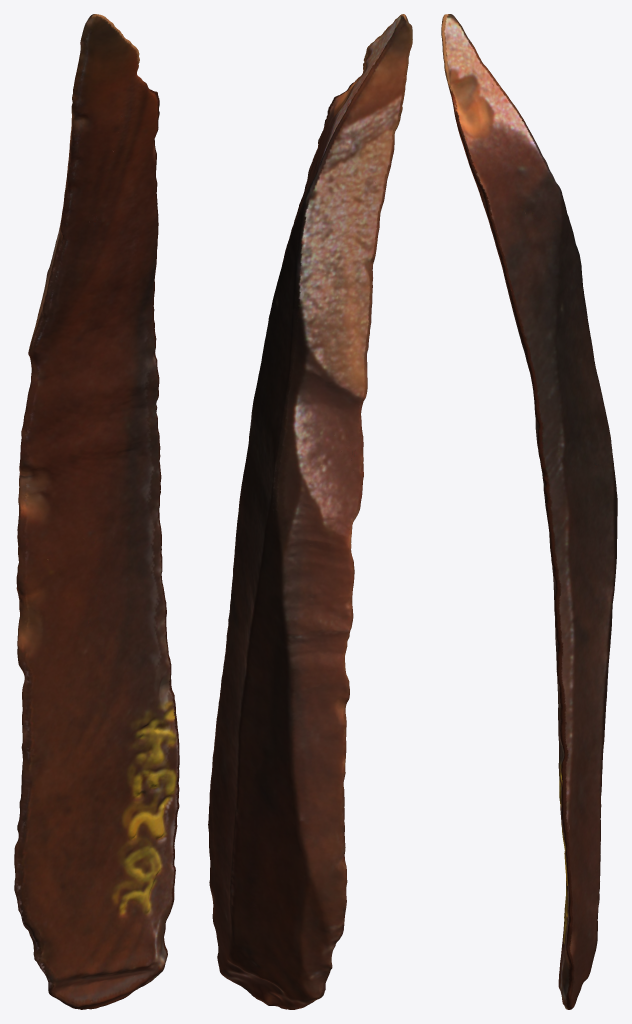
3 views of the same model, side by side, from view 1: azimuth 30°, elevation 25°; view 2: azimuth 150°, elevation 25°; view 3: azimuth 270°, elevation 25° (orthographic). The views are drawn at different scales.
Parts seen in each view (by area): view 1: Node; view 2: Node; view 3: Node.
Boxes of the visible parts, <box> form: Node: <box>14,14,179,1009</box>; Node: <box>208,14,412,1009</box>; Node: <box>441,14,617,1009</box>.
Size of the model in its own units: 11.96 by 73.57 by 12.31.
1 material, 1 textured.
